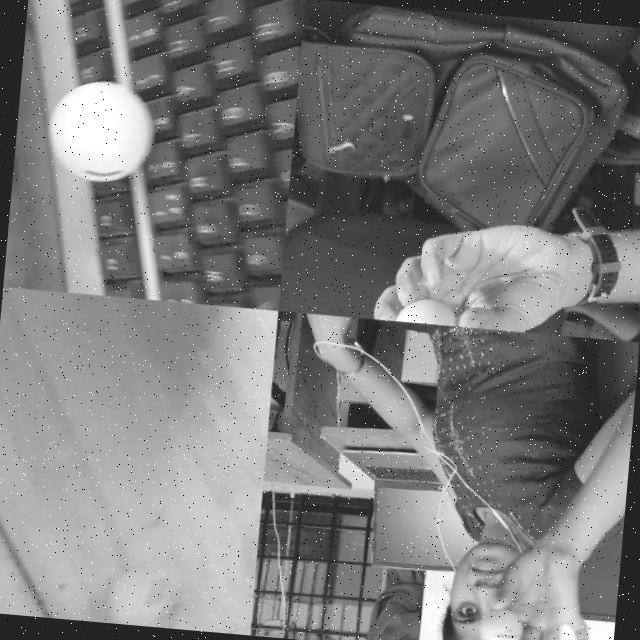ping-pong-ball: (46, 72, 154, 183), (104, 564, 190, 630), (389, 295, 459, 325), (478, 607, 522, 640)
